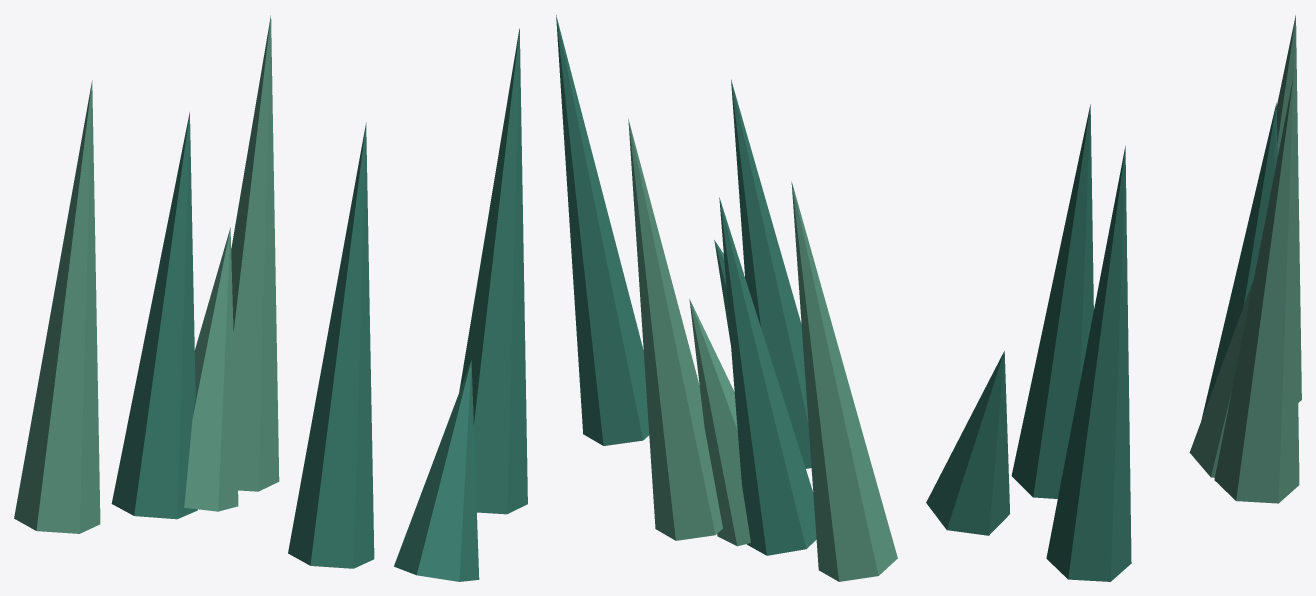
The model's file is SM_ENV_Groundcover_001_GrassTuft.glb.
3 views of the same model, side by side, from view 1: azimuth 30°, elevation 25°; view 2: azimuth 150°, elevation 25°; view 3: azimuth 270°, elevation 25° (orthographic). The views are drawn at different scales.
Visible parts, largest first — view 1: SM_ENV_Groundcover_001_GrassTuft; view 2: SM_ENV_Groundcover_001_GrassTuft; view 3: SM_ENV_Groundcover_001_GrassTuft.
Boxes of the visible parts, x1,y1,x2,y2 form: SM_ENV_Groundcover_001_GrassTuft: (14, 15, 527, 581); SM_ENV_Groundcover_001_GrassTuft: (556, 15, 897, 581); SM_ENV_Groundcover_001_GrassTuft: (926, 15, 1301, 581).
Bounding box in the file's own units: 0.3983 × 0.4112 × 0.3082.
